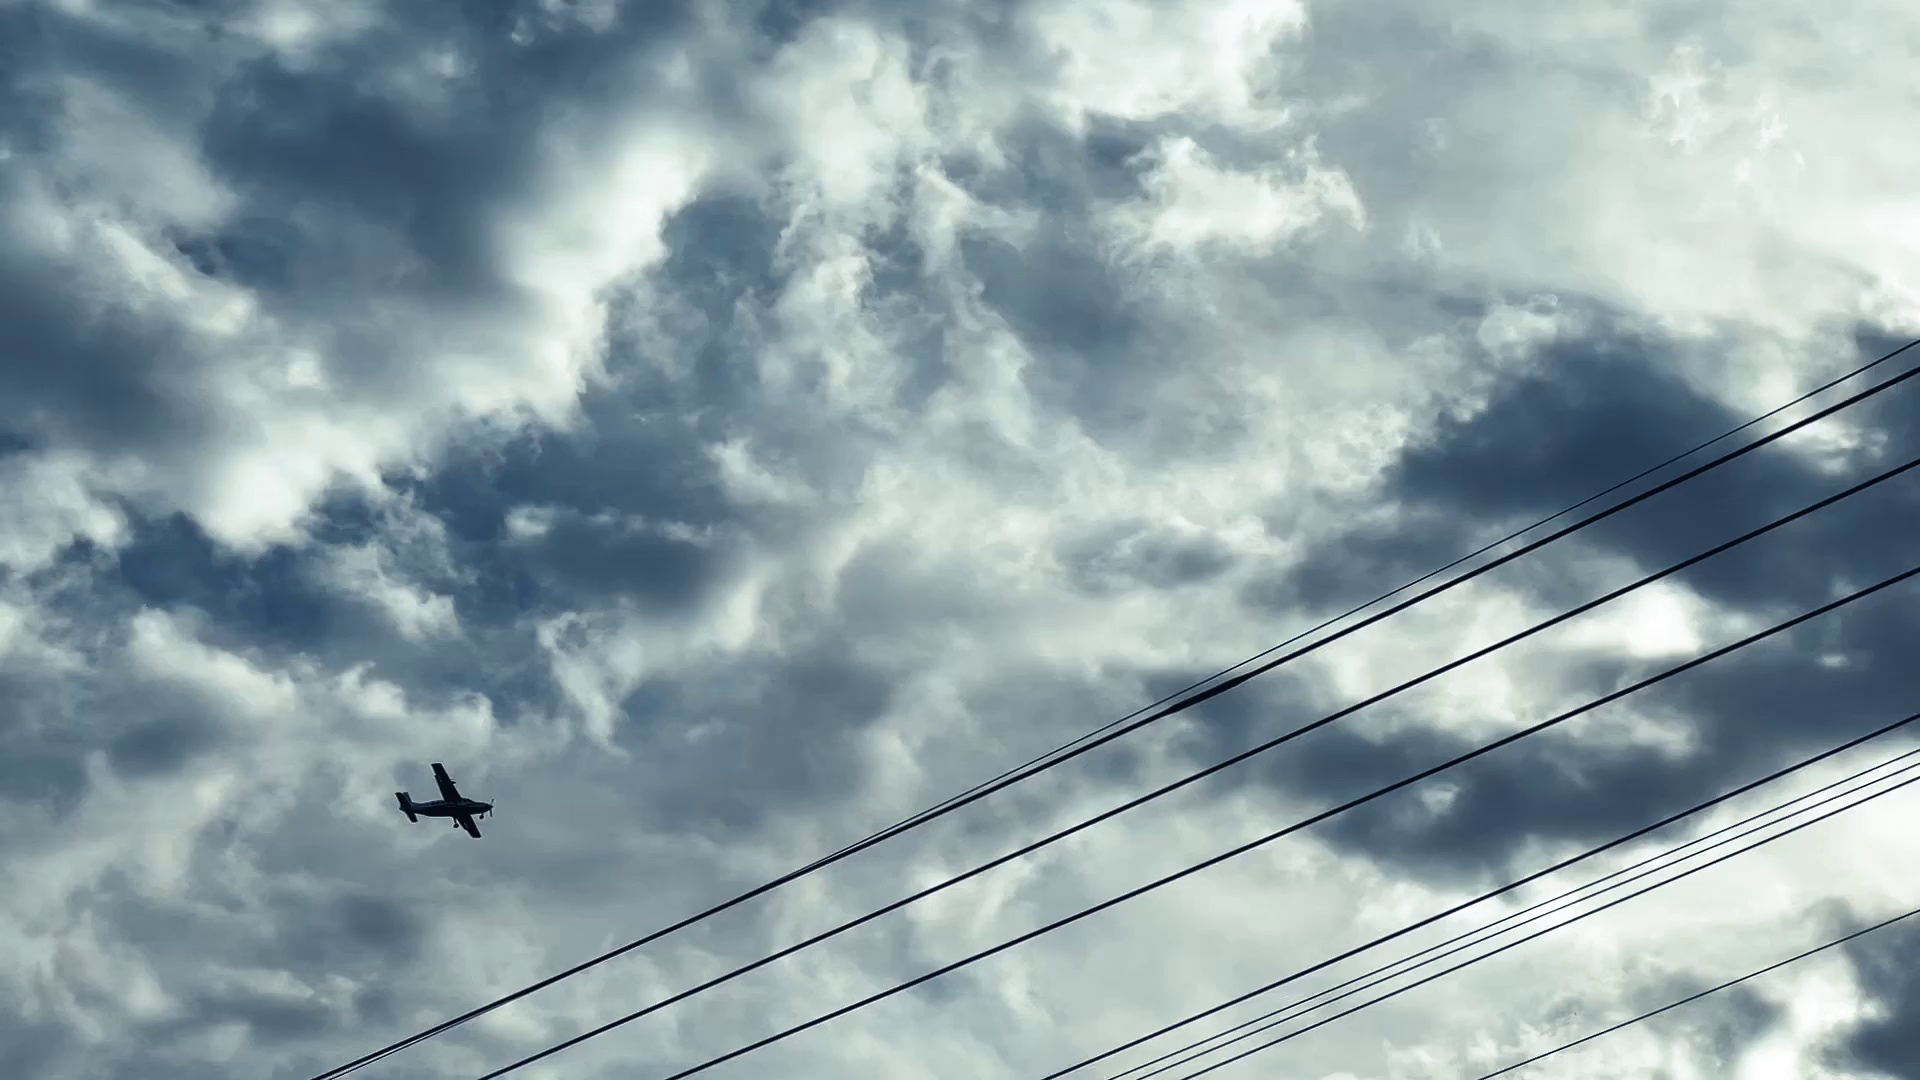plane: (396, 764, 493, 840)
